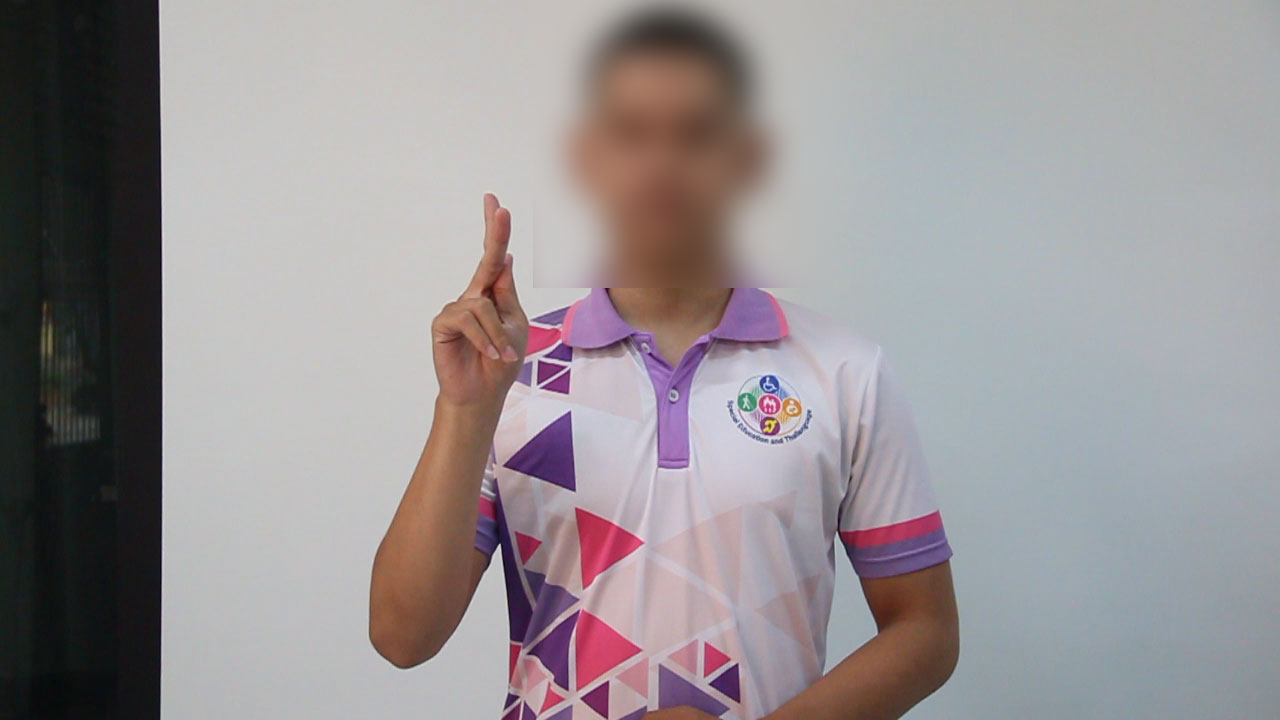ko: (365, 186, 588, 429)
